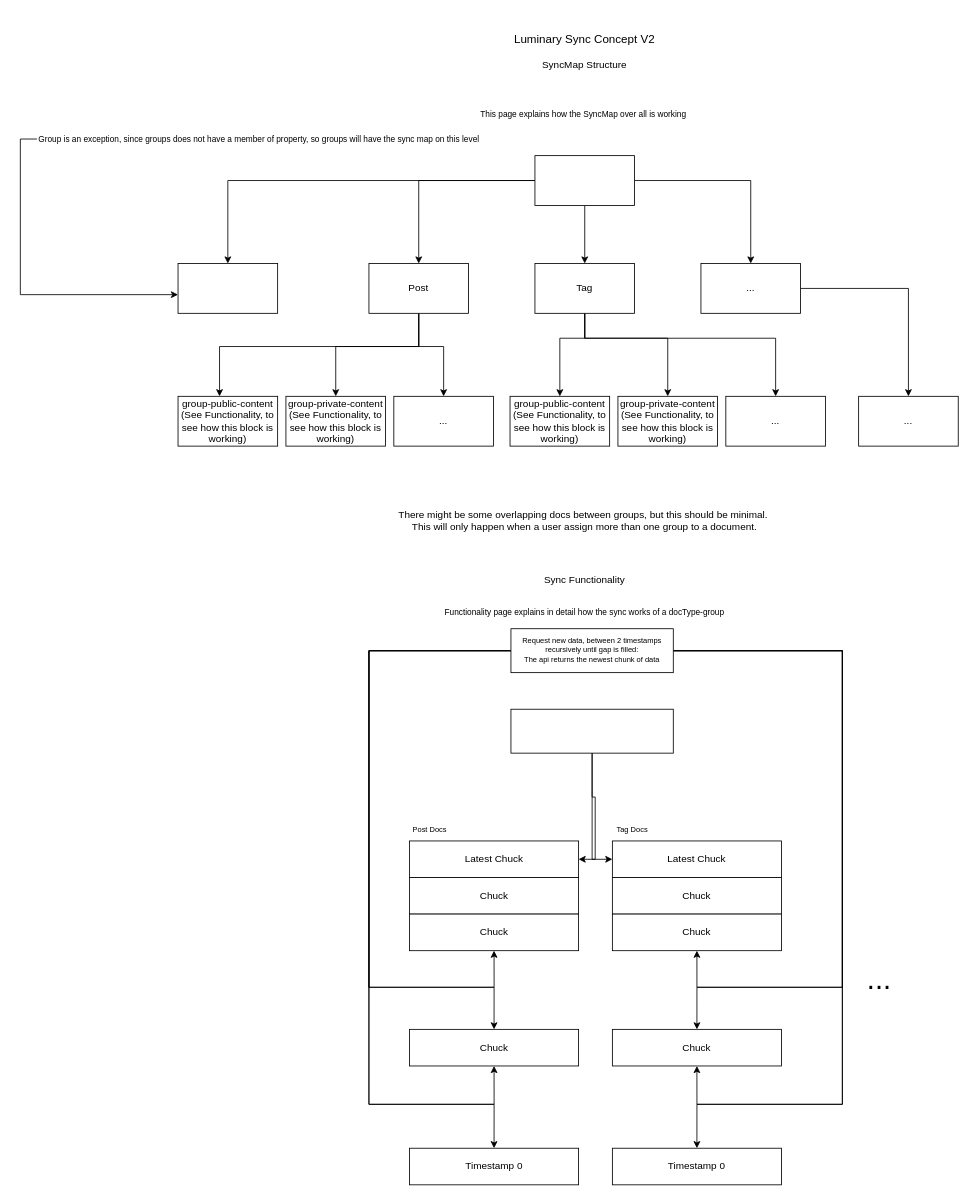
The diagram is 973 pixels wide and 1199 high, and some of its shapes have lost their labels. Each missing label, with the centre of its shape:
"Group" belongs at pixel 227 288.
"Request new data, Submit client latest: The api returns the newest chunk of data" belongs at pixel 591 730.
"SyncMap" belongs at pixel 584 180.
